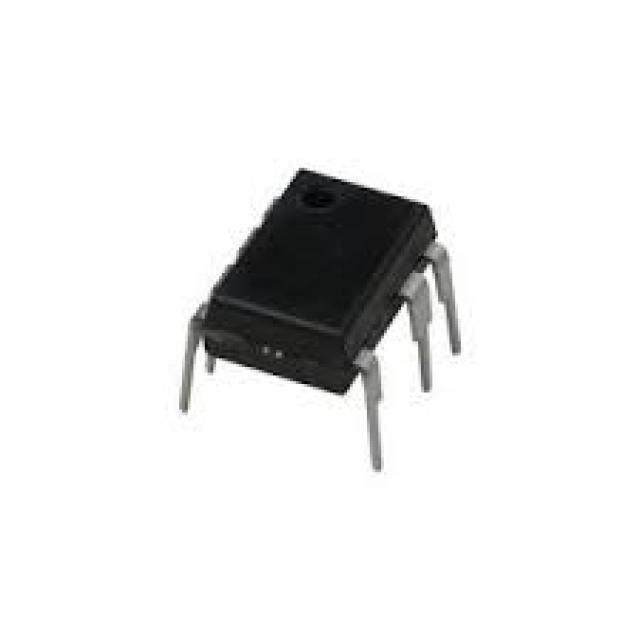IC: (178, 164, 462, 471)
